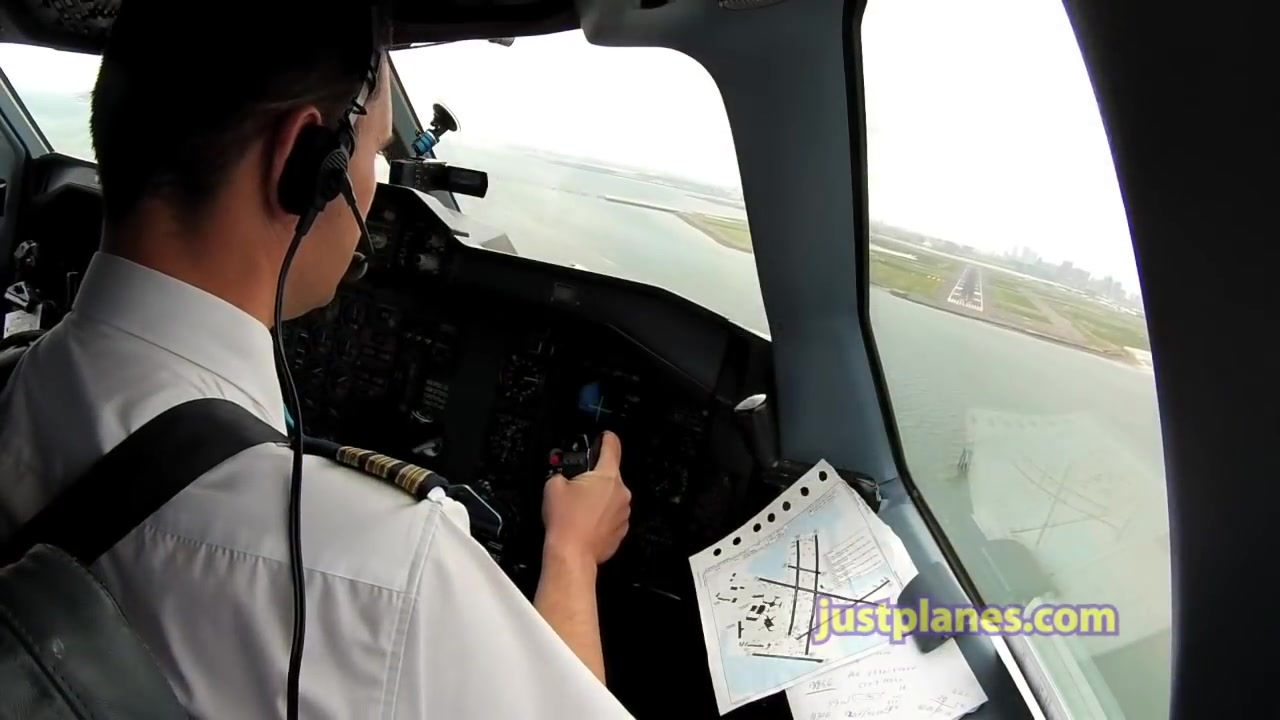entrance: (947, 296, 982, 312)
runway: (946, 264, 985, 315)
